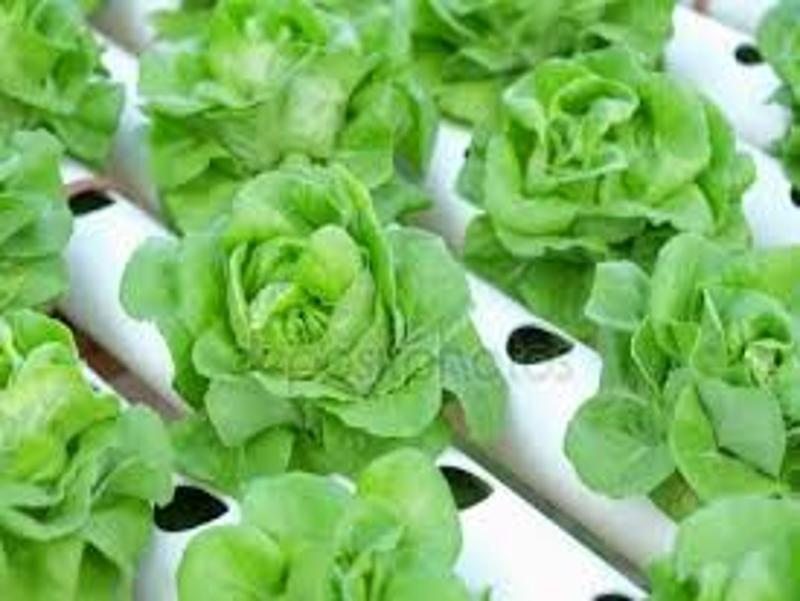cabbage: (145, 166, 492, 476), (481, 59, 752, 298), (571, 232, 800, 501), (142, 9, 437, 206), (4, 317, 178, 594), (172, 462, 493, 598), (407, 1, 688, 134)
